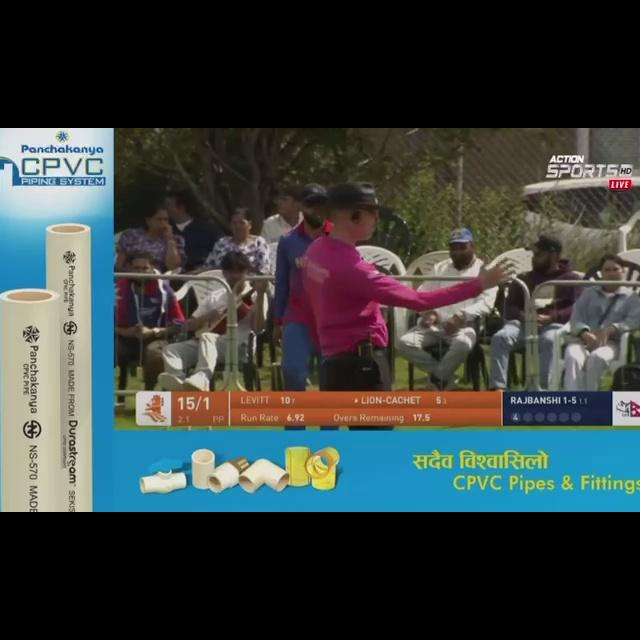umpire: (281, 172, 523, 425)
